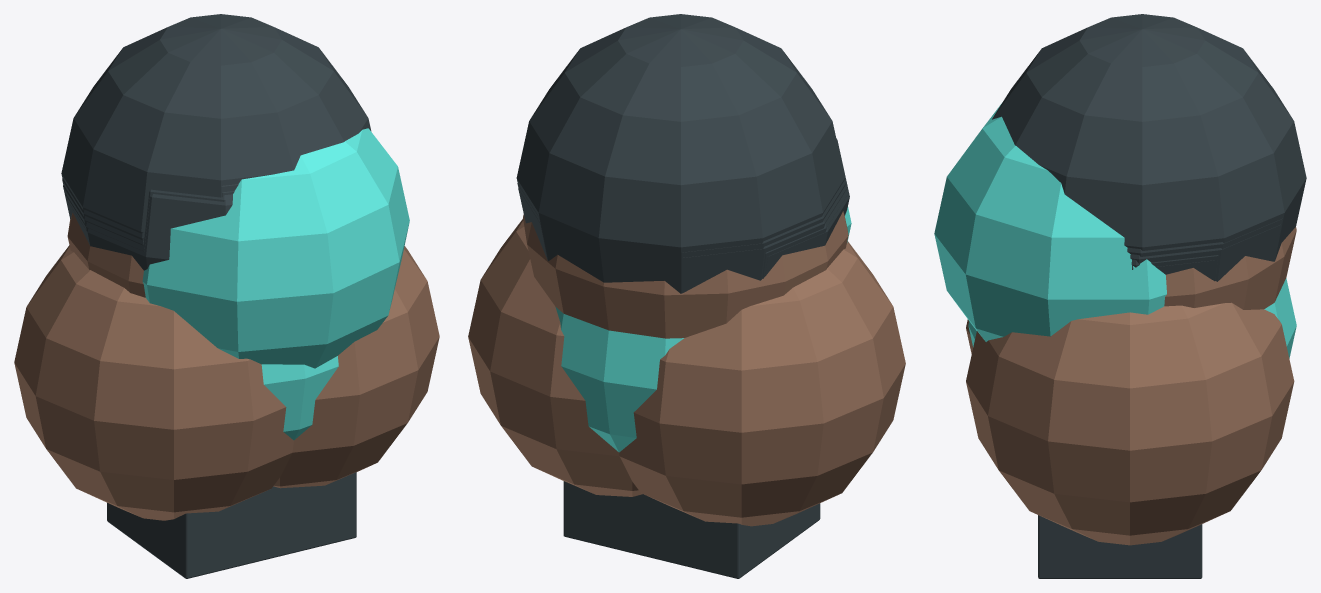
The model's file is Amara_Jury.fbx.
The picture shows the model from 3 angles, left to right: view 1: azimuth 30°, elevation 25°; view 2: azimuth 150°, elevation 25°; view 3: azimuth 270°, elevation 25°; orthographic projection. The views are drawn at different scales.
Visible parts, largest first — view 1: RightHandMesh, Hair_4, IntentEye, LeftHandMesh, LeftFootMesh, RightFootMesh, Hair_0, Coat, HeadMesh, Hair_1, Hair_3, Hair_2; view 2: Hair_4, RightHandMesh, LeftHandMesh, HeadMesh, RightFootMesh, Coat, Hair_2, LeftFootMesh, Hair_3, Hair_0, Hair_1; view 3: LeftHandMesh, Hair_4, IntentEye, LeftFootMesh, HeadMesh, Hair_2, Coat, Hair_3, Hair_0, Hair_1.
Boxes of the visible parts, x1,y1,x2,y2 form: RightHandMesh: (14,245,293,520); Hair_4: (61,14,371,233); IntentEye: (142,128,409,368); LeftHandMesh: (273,246,439,488); LeftFootMesh: (220,472,356,570); RightFootMesh: (107,486,322,578); Hair_0: (66,194,232,270); Coat: (261,356,338,440); HeadMesh: (67,213,145,297); Hair_1: (64,189,232,251); Hair_3: (62,178,238,239); Hair_2: (63,184,234,245); Hair_4: (516,14,844,293); RightHandMesh: (619,241,905,526); LeftHandMesh: (468,219,642,496); HeadMesh: (523,211,848,338); RightFootMesh: (598,494,820,578); Coat: (555,307,683,452); Hair_2: (518,185,846,293); LeftFootMesh: (563,481,699,560); Hair_3: (517,179,845,293); Hair_0: (765,138,849,275); Hair_1: (762,179,848,278); LeftHandMesh: (966,302,1294,545); Hair_4: (992,14,1306,261); IntentEye: (934,102,1166,341); LeftFootMesh: (1038,515,1202,578); HeadMesh: (1164,227,1296,309); Hair_2: (1130,224,1281,281); Coat: (968,278,1296,358); Hair_3: (1127,218,1282,261); Hair_0: (1132,260,1214,279); Hair_1: (1131,255,1218,281).
Size of the model in its own units: 2.77 by 3.41 by 2.27.
